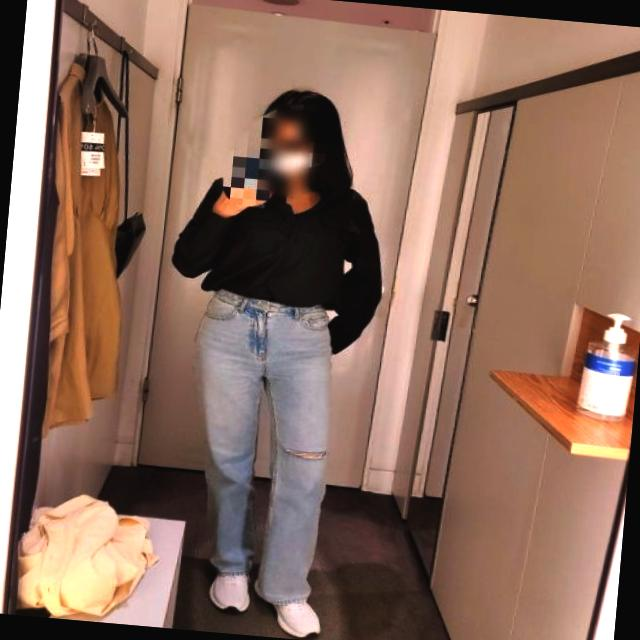denimpants: (174, 283, 344, 606)
longsleeve: (163, 161, 393, 359)
